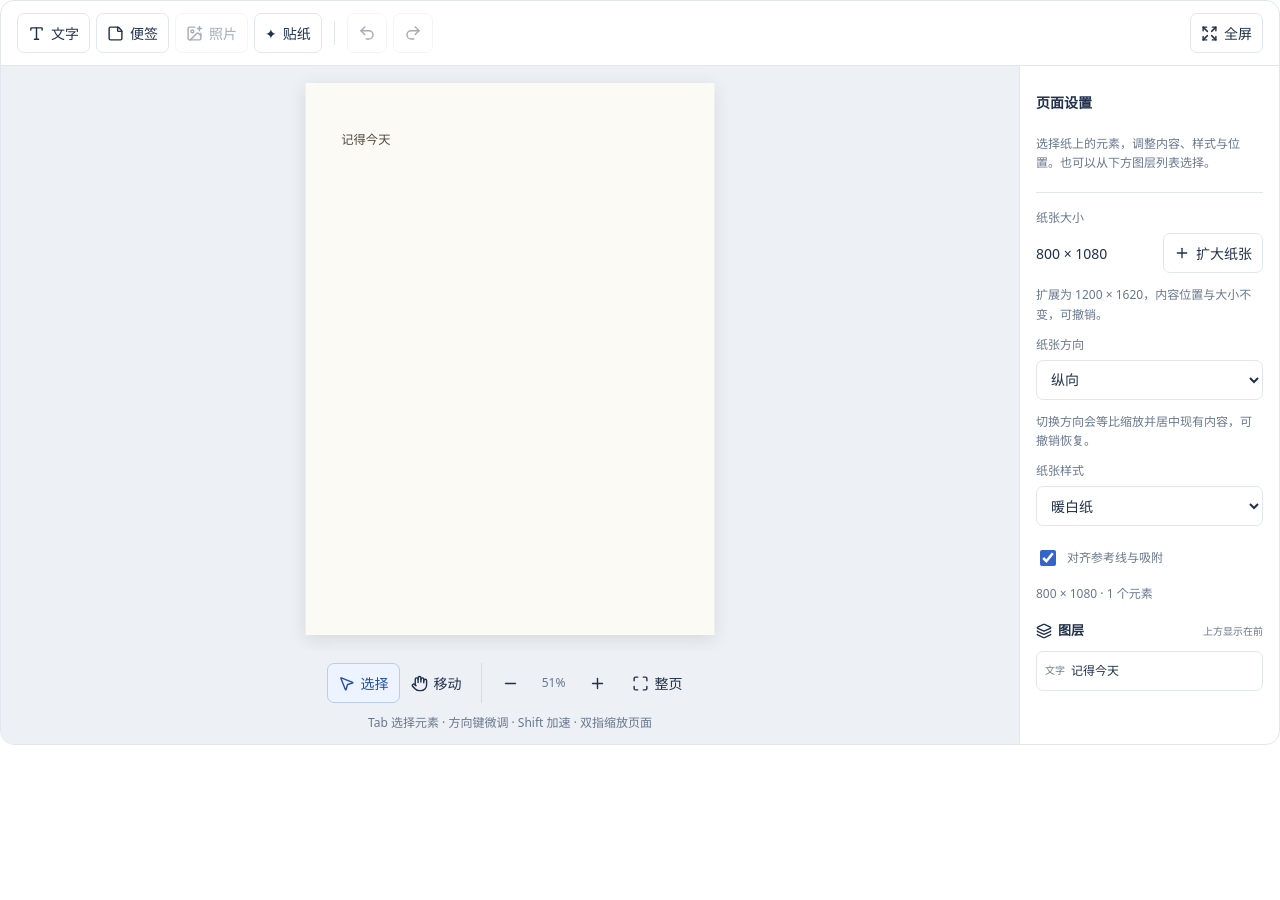
JournalCanvas › refits the page to fullscreen bounds and restores the normal fit on exit
Expected: the text named "画布缩放比例" reads "51%", [542,674,565,691]
Click the button with aria-label "全屏编辑".
click(1226, 33)  # box [1190,13,1263,53]
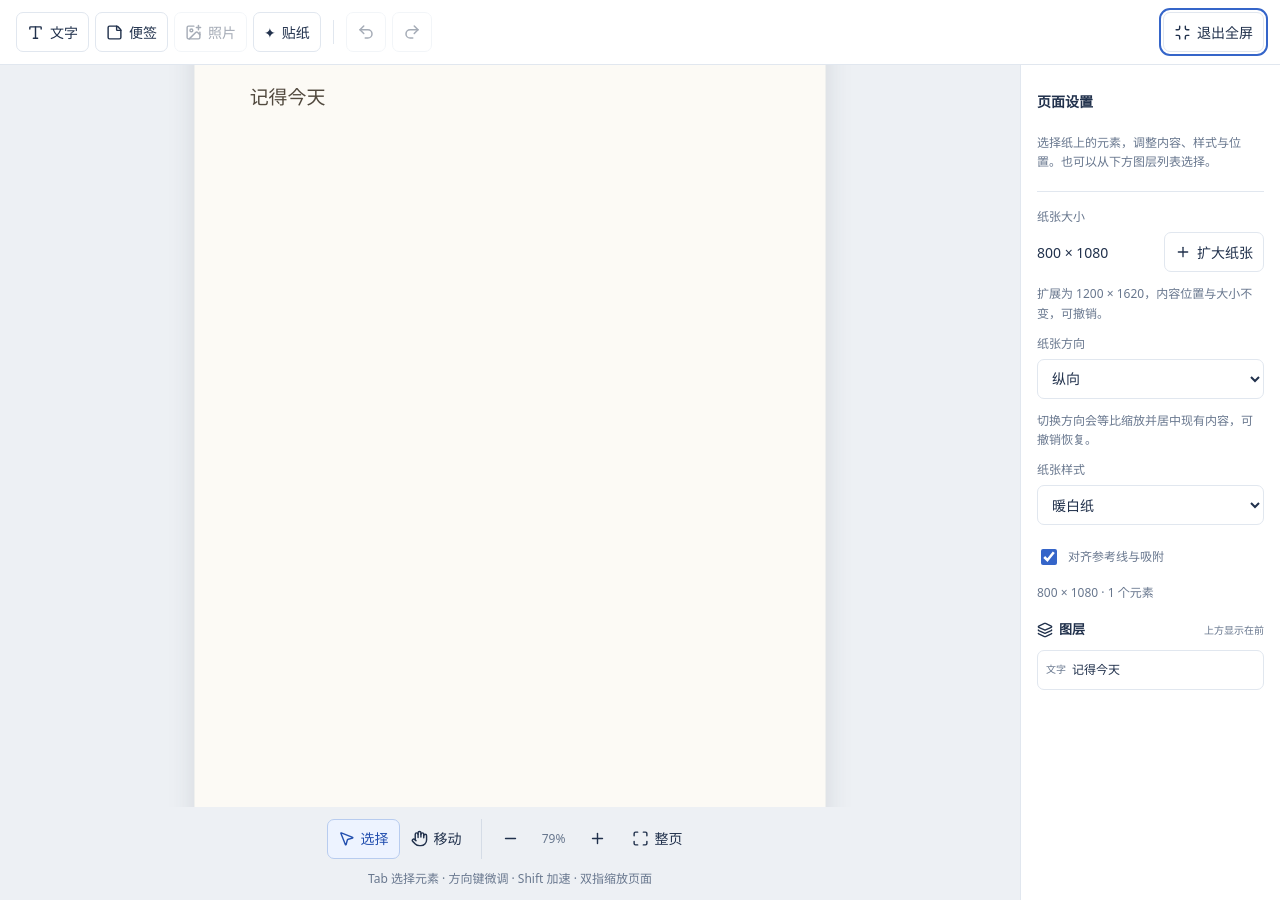
Result: the text named "画布缩放比例" reads "79%" at [542,830,565,847]
Click the button with aria-label "退出全屏编辑".
click(1214, 32)  # box [1163,12,1264,52]
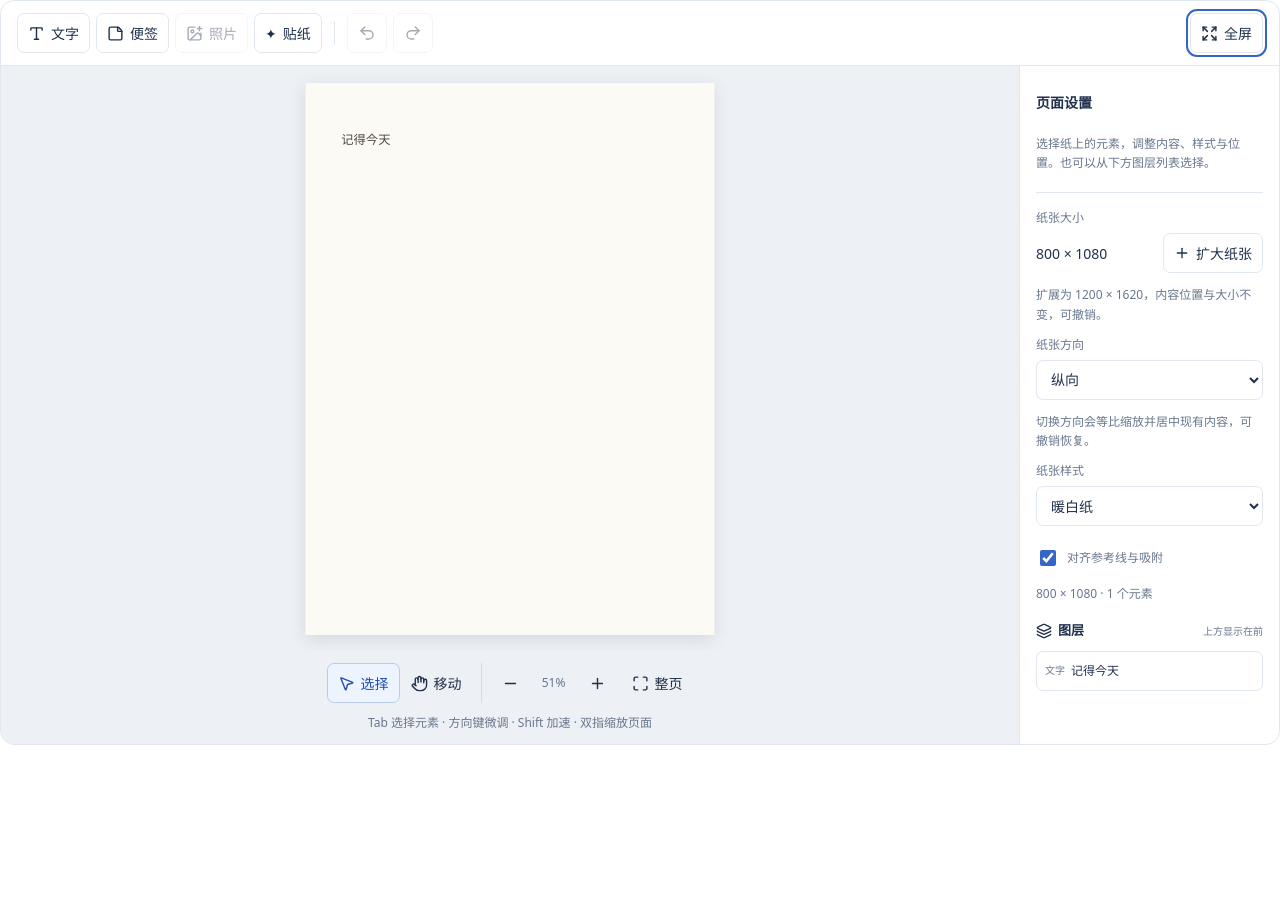
Result: the text named "画布缩放比例" reads "51%" at [542,674,565,691]
